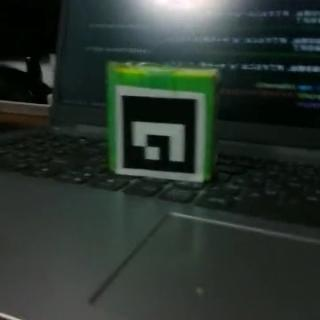armor: (115, 85, 208, 179)
robot: (108, 60, 222, 182)
